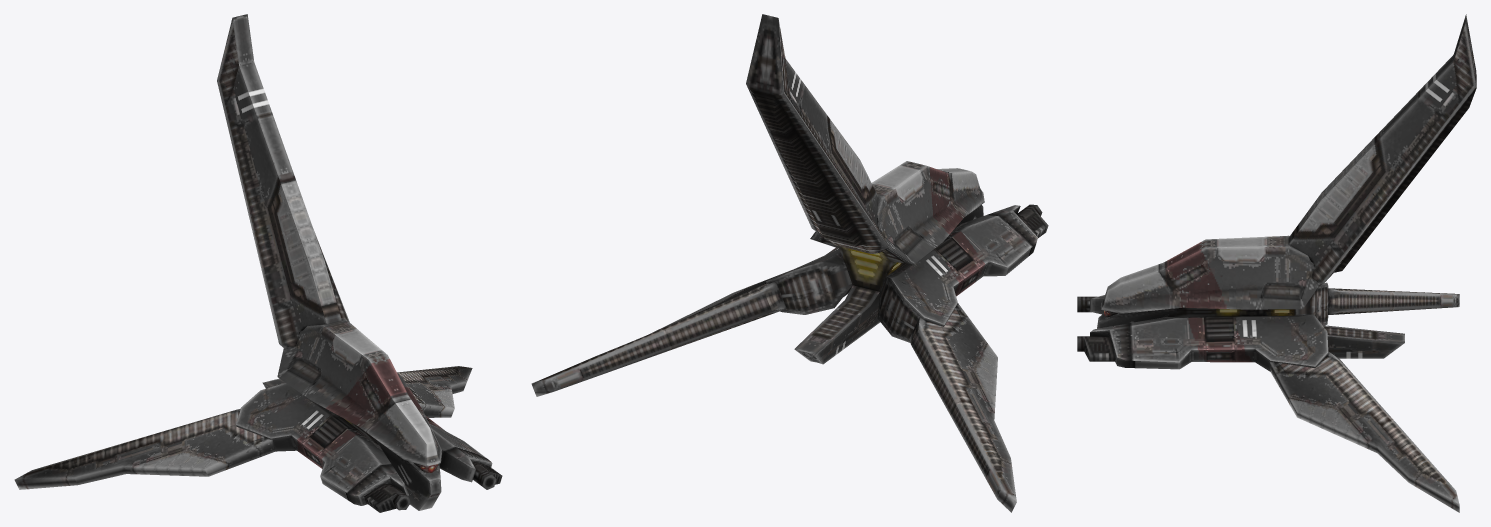
Rendered from kpr_sf_dron_02.glb.
The picture shows the model from 3 angles, left to right: view 1: azimuth 30°, elevation 25°; view 2: azimuth 150°, elevation 25°; view 3: azimuth 270°, elevation 25°; orthographic projection. The views are drawn at different scales.
Visible parts, largest first — view 1: kpr_drone_01_LOD0, kpr_drone_01_wing_top_LOD0, kpr_drone_01_wing_right_LOD0, kpr_drone_01_wing_left_LOD0; view 2: kpr_drone_01_LOD0, kpr_drone_01_wing_top_LOD0, kpr_drone_01_wing_right_LOD0, kpr_drone_01_wing_left_LOD0; view 3: kpr_drone_01_LOD0, kpr_drone_01_wing_top_LOD0, kpr_drone_01_wing_left_LOD0, kpr_drone_01_wing_right_LOD0.
Part boxes in pixels (<box>): kpr_drone_01_LOD0: <box>236,318,502,512</box>; kpr_drone_01_wing_top_LOD0: <box>217,14,349,347</box>; kpr_drone_01_wing_right_LOD0: <box>14,408,274,489</box>; kpr_drone_01_wing_left_LOD0: <box>397,366,472,417</box>; kpr_drone_01_LOD0: <box>766,161,1048,364</box>; kpr_drone_01_wing_top_LOD0: <box>746,14,888,253</box>; kpr_drone_01_wing_right_LOD0: <box>909,303,1016,512</box>; kpr_drone_01_wing_left_LOD0: <box>531,270,790,396</box>; kpr_drone_01_LOD0: <box>1077,235,1404,371</box>; kpr_drone_01_wing_top_LOD0: <box>1288,14,1476,286</box>; kpr_drone_01_wing_left_LOD0: <box>1269,351,1459,512</box>; kpr_drone_01_wing_right_LOD0: <box>1328,288,1459,314</box>.
Size of what is drawn, in the model's own units: 0.6301 by 0.548 by 0.5056.
1 material, 1 textured.
